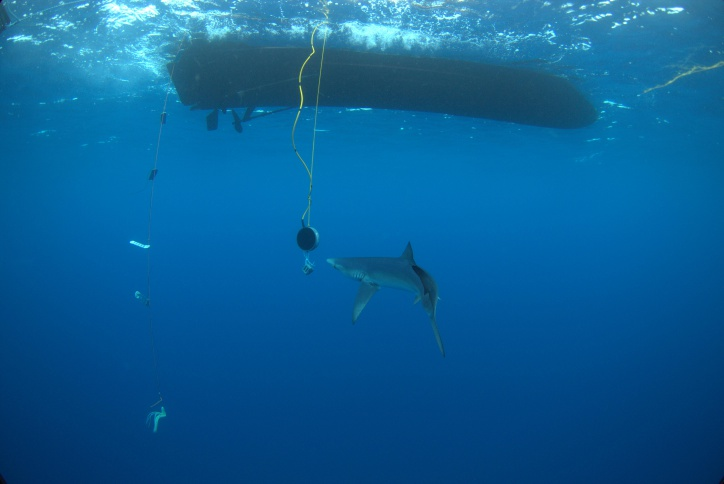Azul: (323, 220, 471, 367)
